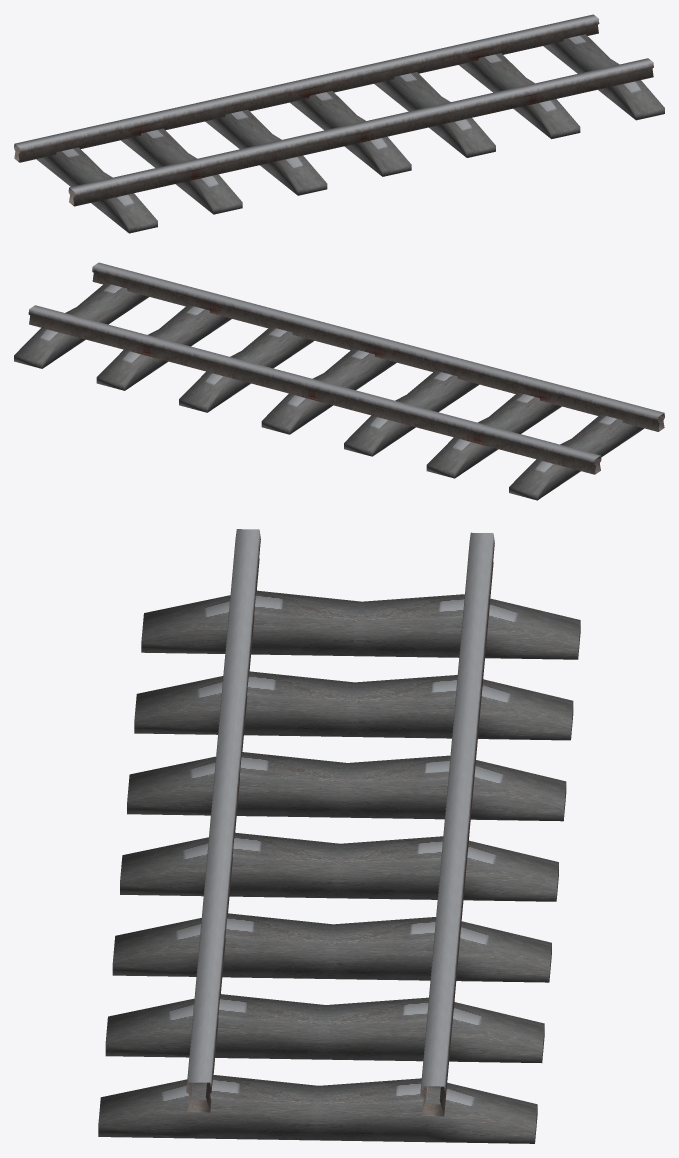
Rendered from TrainTracks.glb.
The picture shows the model from 3 angles, top to bottom: view 1: azimuth 30°, elevation 25°; view 2: azimuth 150°, elevation 25°; view 3: azimuth 270°, elevation 25°; orthographic projection. The views are drawn at different scales.
Visible parts, largest first — view 1: Rails__0.001, Rails, Rails__0.002; view 2: Rails__0.001, Rails, Rails__0.002; view 3: Rails, Rails__0.001, Rails__0.002.
Part boxes in pixels (x1=…): Rails__0.001: x1=352, y1=14, x2=664, y2=157; Rails: x1=14, y1=91, x2=327, y2=233; Rails__0.002: x1=183, y1=61, x2=495, y2=195; Rails__0.001: x1=14, y1=262, x2=334, y2=412; Rails: x1=344, y1=350, x2=664, y2=500; Rails__0.002: x1=179, y1=310, x2=494, y2=456; Rails: x1=127, y1=529, x2=580, y2=821; Rails__0.001: x1=98, y1=851, x2=551, y2=1143; Rails__0.002: x1=112, y1=690, x2=566, y2=982.
Bounding box in the file's own units: 6.91 × 0.3763 × 2.52.
Materials: 3 (3 with a texture image).
